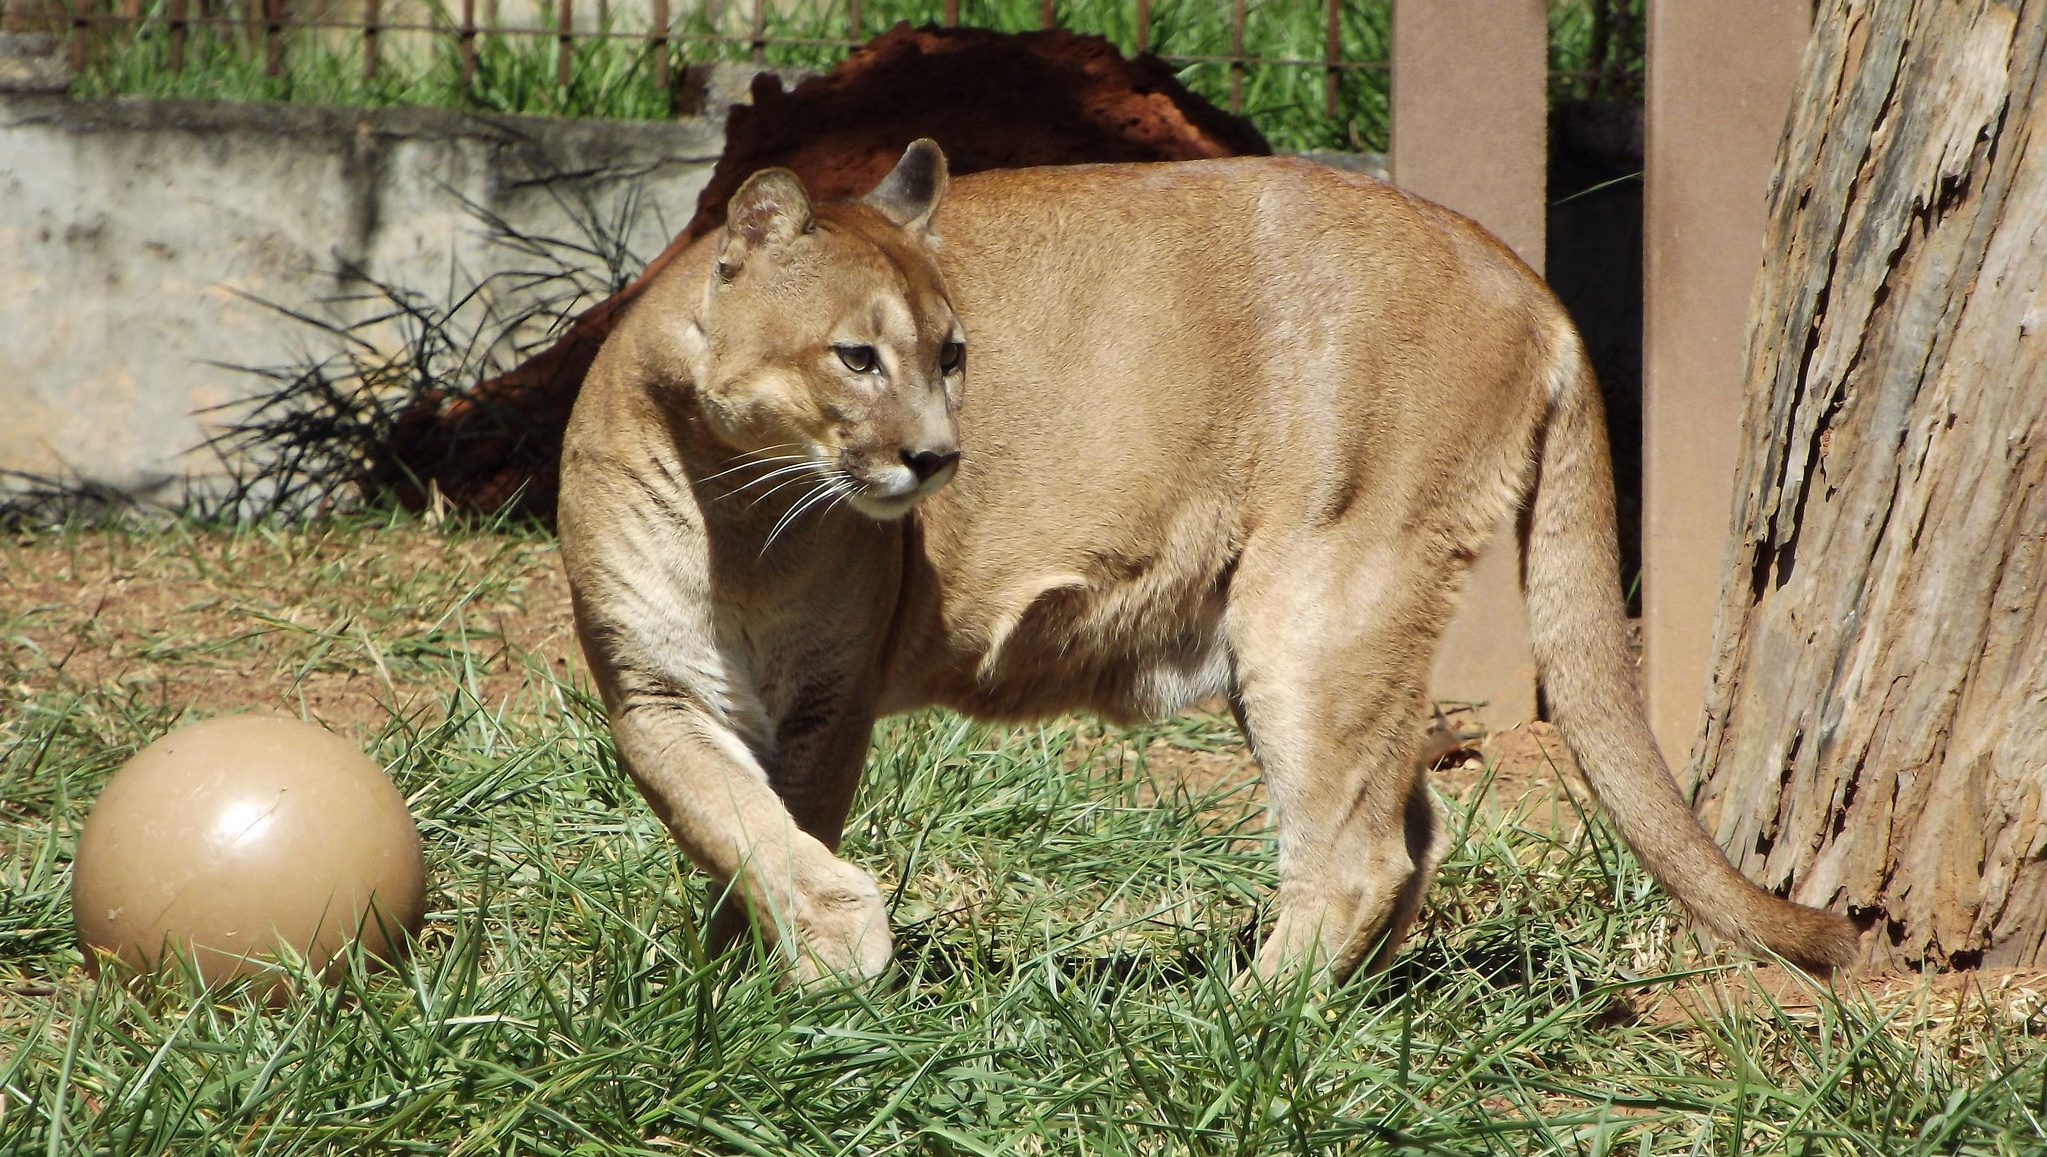OncaParda: (543, 124, 1884, 1025)
